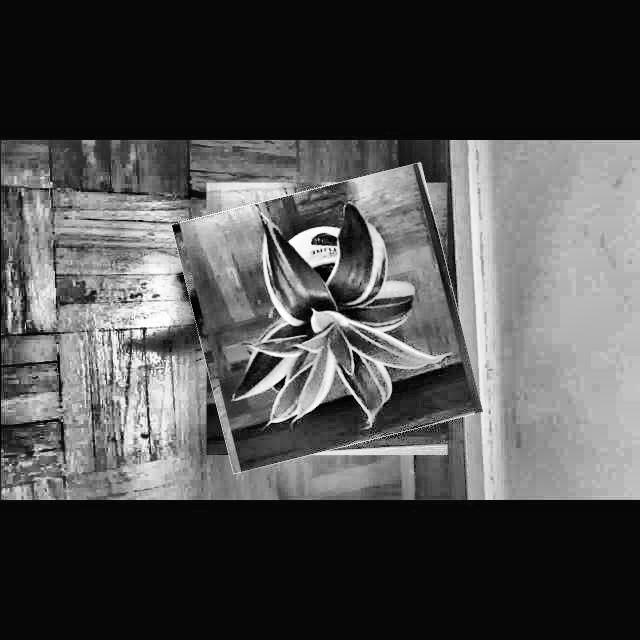plants: (184, 177, 468, 460)
